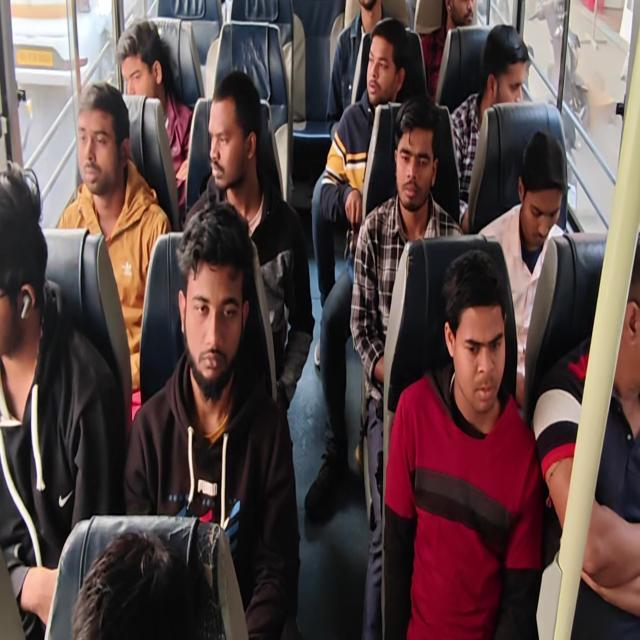person: (70, 506, 222, 640), (177, 219, 273, 399), (419, 252, 519, 405), (591, 253, 640, 422), (0, 175, 43, 362), (69, 90, 130, 196), (200, 86, 260, 192), (104, 17, 170, 111), (517, 136, 569, 254), (481, 36, 538, 125), (394, 114, 441, 208), (365, 40, 405, 104), (437, 0, 488, 37), (357, 0, 379, 15)
